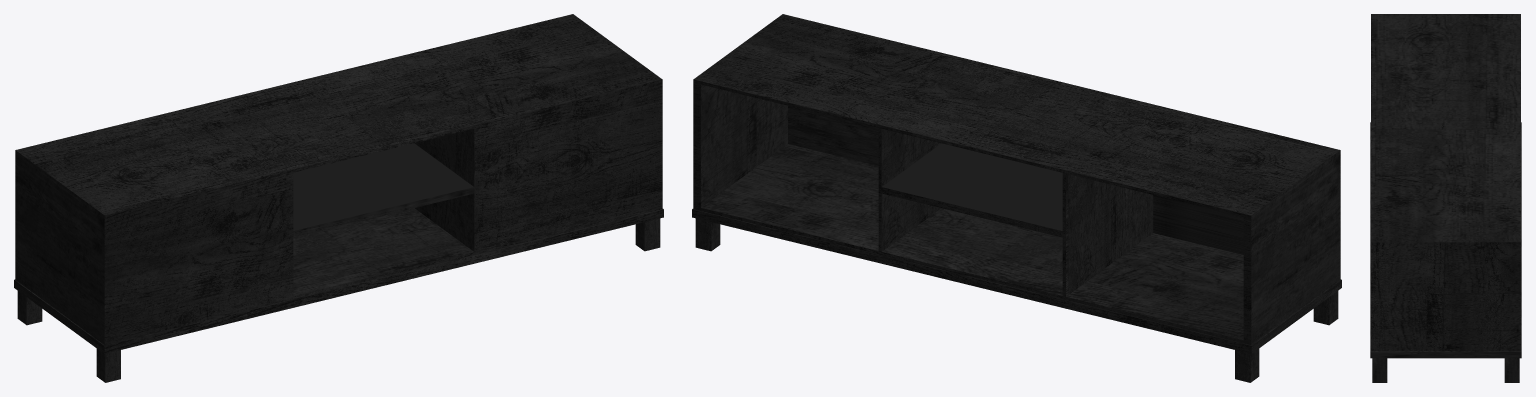
File: Kast.fbx
3 views of the same model, side by side, from view 1: azimuth 30°, elevation 25°; view 2: azimuth 150°, elevation 25°; view 3: azimuth 270°, elevation 25° (orthographic). The views are drawn at different scales.
Visible parts, largest first — view 1: Kast; view 2: Kast; view 3: Kast.
Boxes of the visible parts, <box> form: Kast: <box>14,14,663,382</box>; Kast: <box>692,14,1341,382</box>; Kast: <box>1370,14,1521,382</box>.
Size of the model in its own units: 181 by 51.94 by 50.49.
